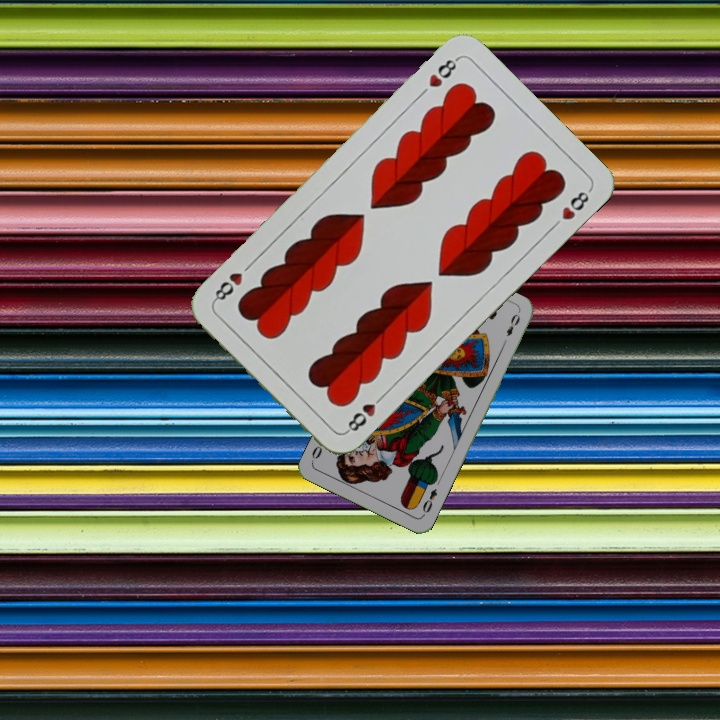EO: (418, 484, 440, 519)
H8: (341, 389, 388, 436), (424, 53, 462, 90)
